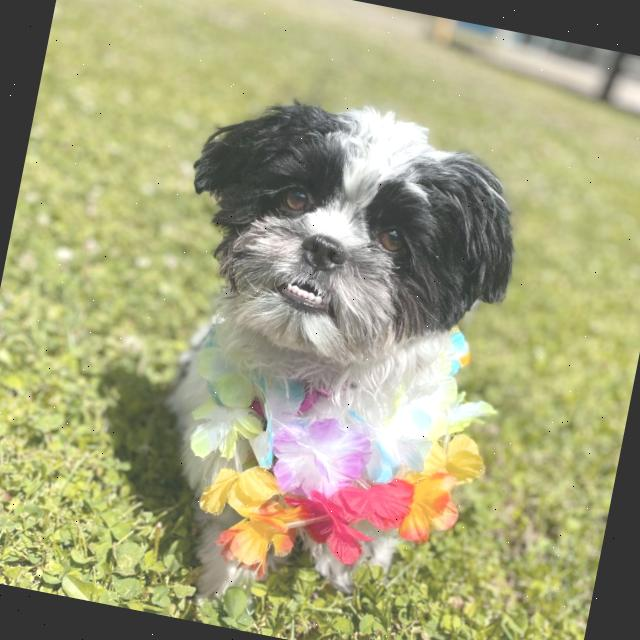shih_tzu_dog: (149, 56, 556, 424)
